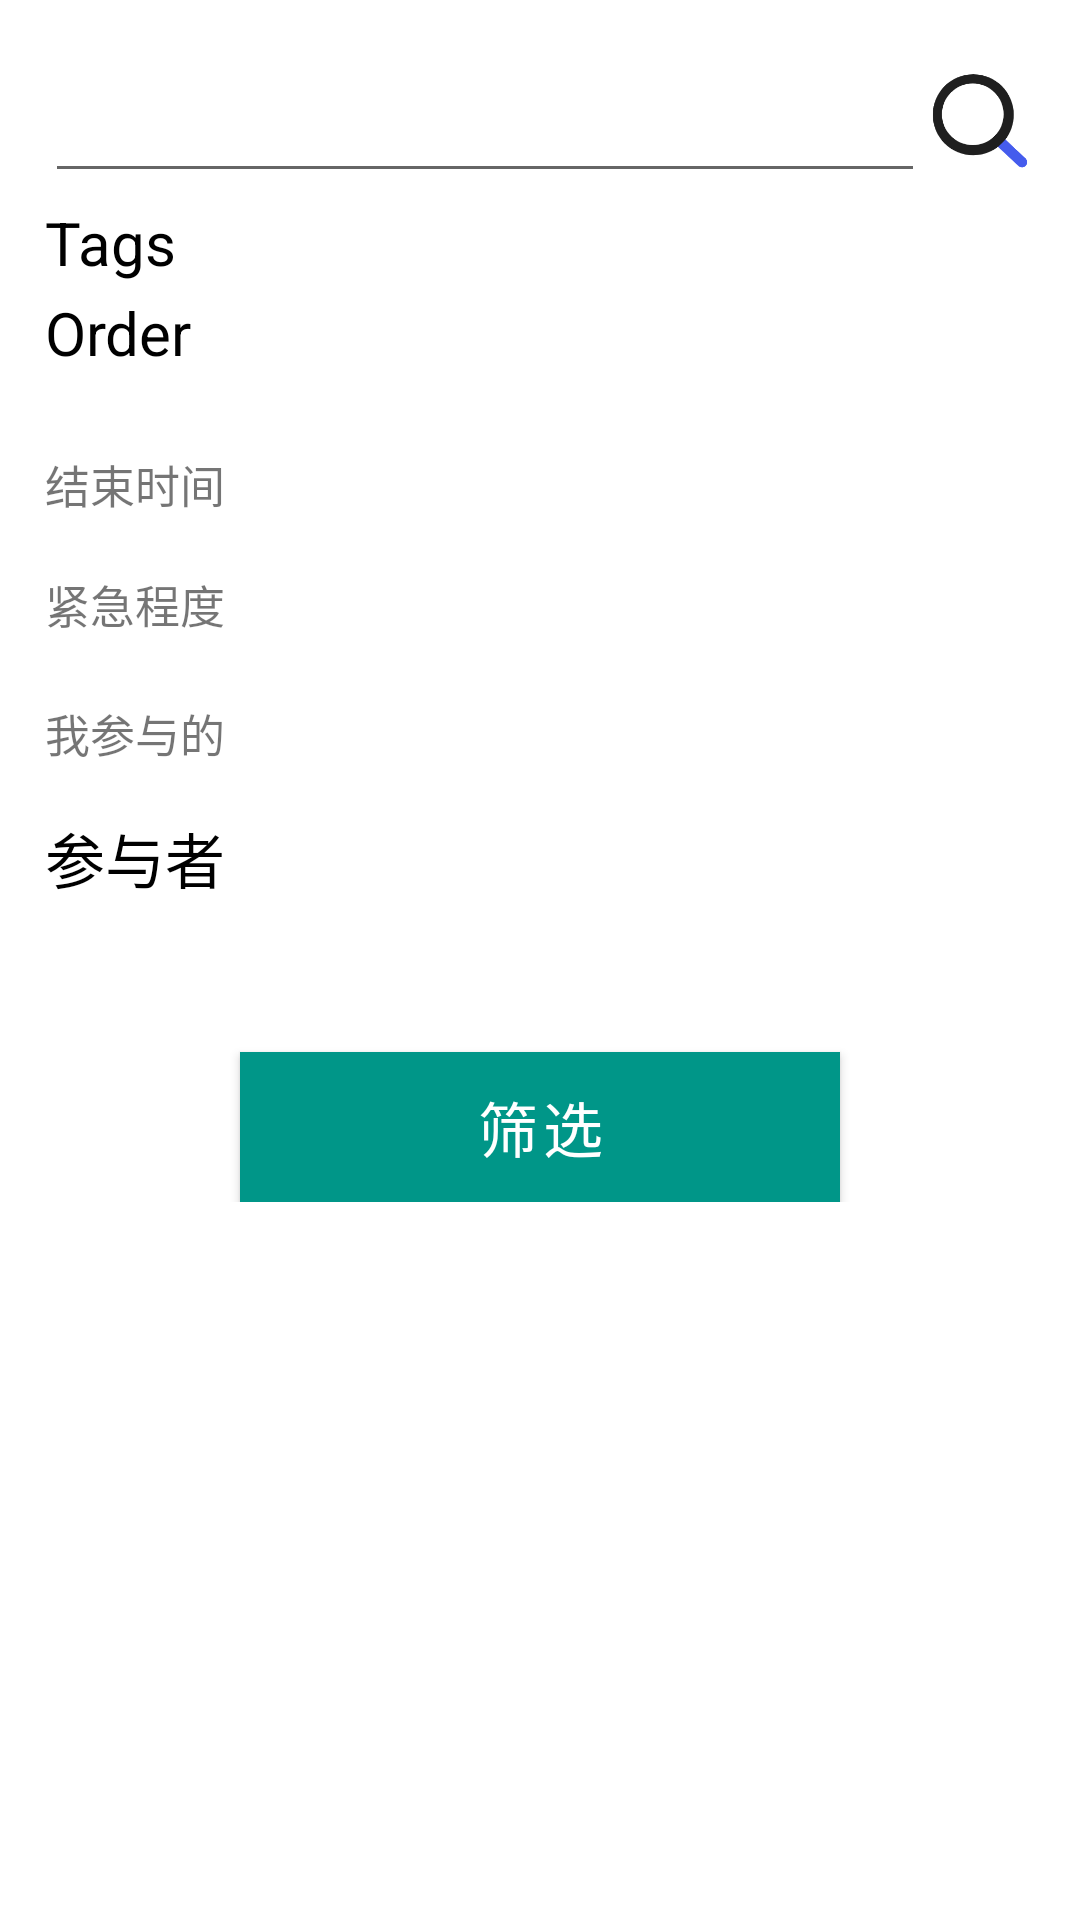

Named icons in this screenshot (1080w x 1920h) and their centers, [x,y]:
find: [980,121]
